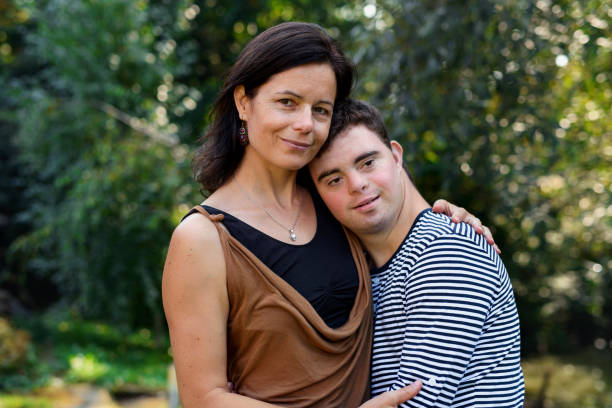without mask: (310, 120, 410, 237), (241, 56, 341, 173)
